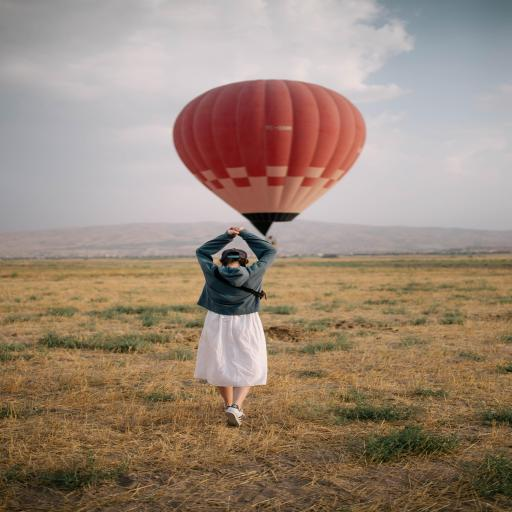hot air ballon: (168, 76, 367, 250)
